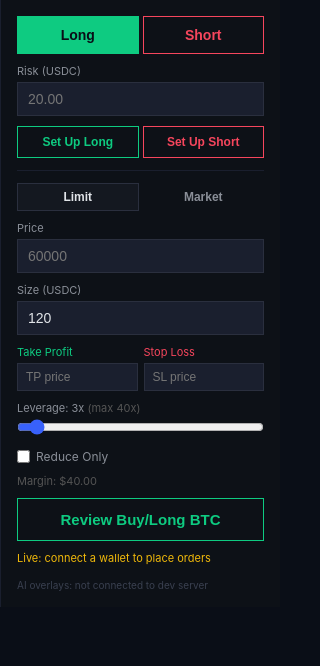
Test case: OrderPanel in live mode › blocks orders until trading is enabled
The image size is (320, 666).
Expected: the text "Live: connect a wallet to place orders" is shown, left=17, top=551, right=211, bottom=565
Type "59000" into the field with placeholder "60000".
click(140, 256); type("59000")  # box left=17, top=239, right=264, bottom=273
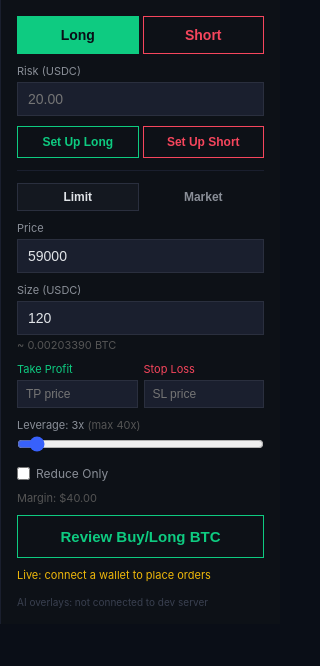
Click the button "Review Buy/Long BTC".
click(140, 536)  # box left=17, top=515, right=264, bottom=558
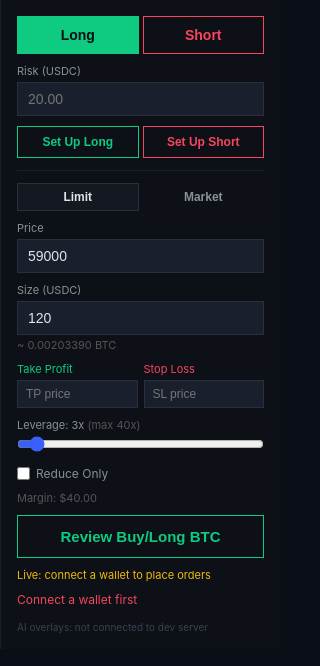
Result: the text "Connect a wallet first" is shown at left=17, top=592, right=137, bottom=607
